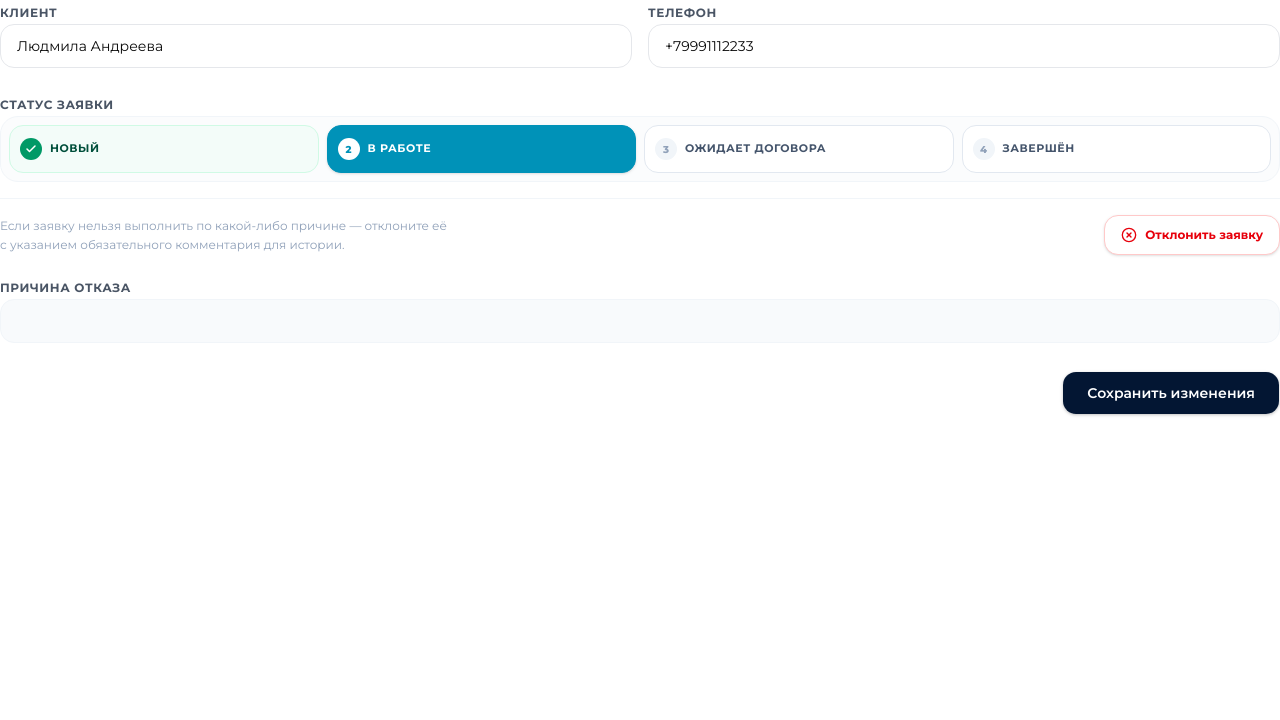
it: OrderManageForm › открывает модалку отказа
What coordinates should you click on to do the following:
click the button "Отклонить заявку"
I would click on:
 (1192, 235)
Its box is x1=1104 y1=215 x2=1279 y2=255.
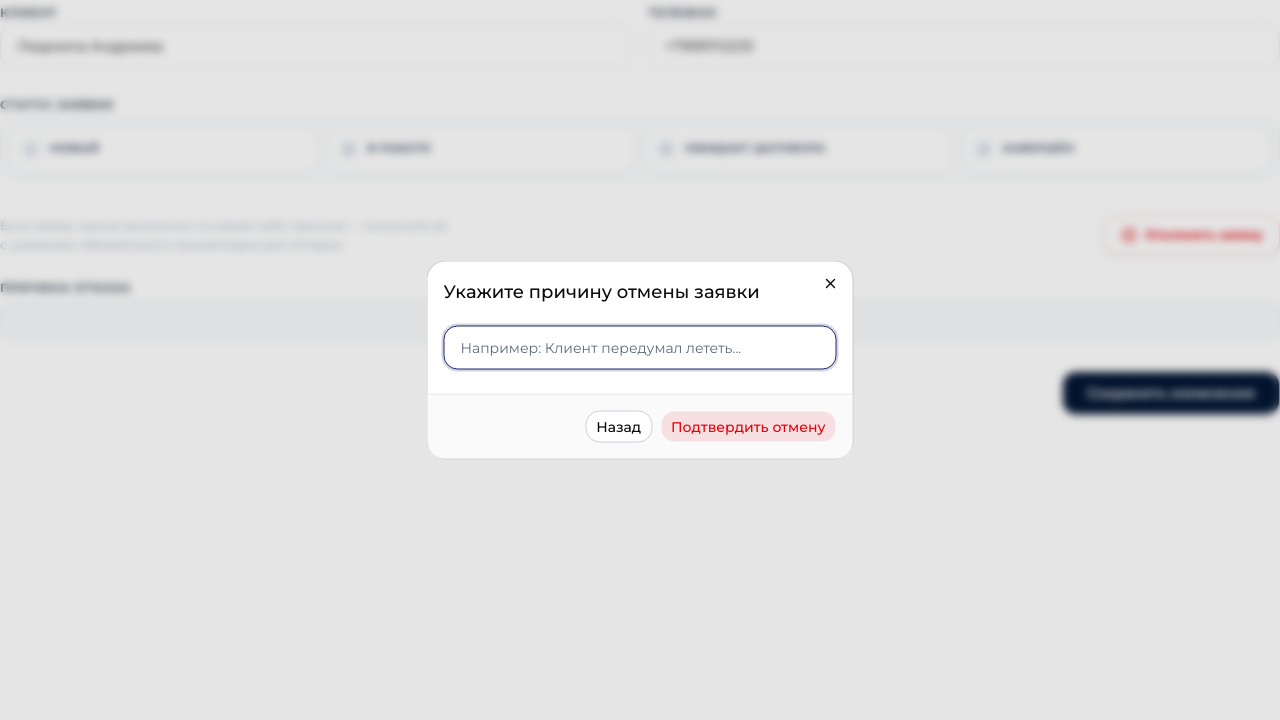
Result: the heading "Укажите причину отмены заявки" is shown at x1=444 y1=280 x2=760 y2=302
